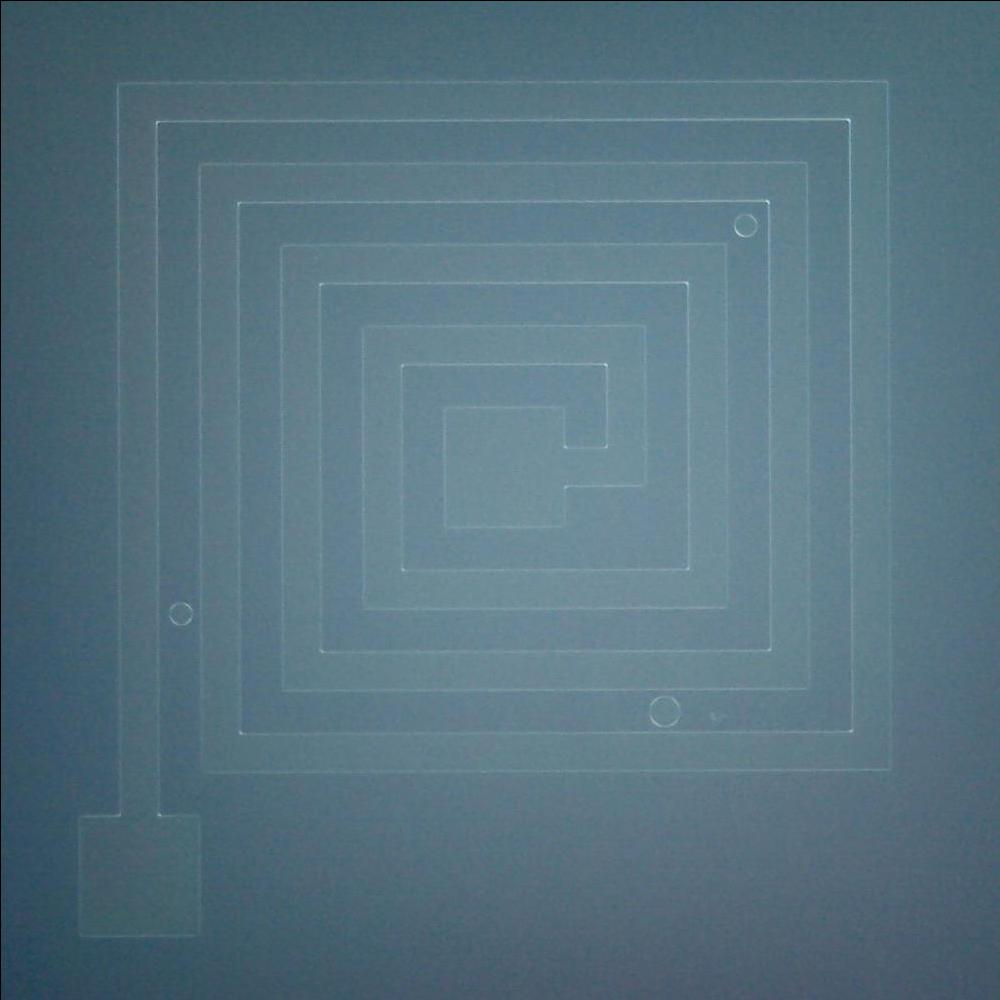circle: (645, 688, 682, 729), (164, 590, 196, 630), (728, 207, 761, 244)
